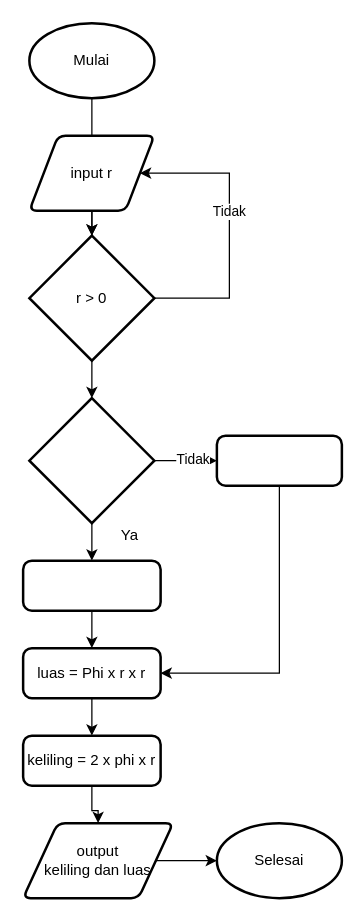
The diagram is 364 pixels wide and 920 high, and some of its shapes have lost their labels. The shapes that lost their labels are listed below. From the top down, each one's box as (x1, y1, x2, y2) in pixels, then its label:
(28, 396, 155, 524): r % 7 == 0 ?
(215, 434, 342, 486): Phi = 3,14
(21, 559, 161, 611): Phi = 22/7
